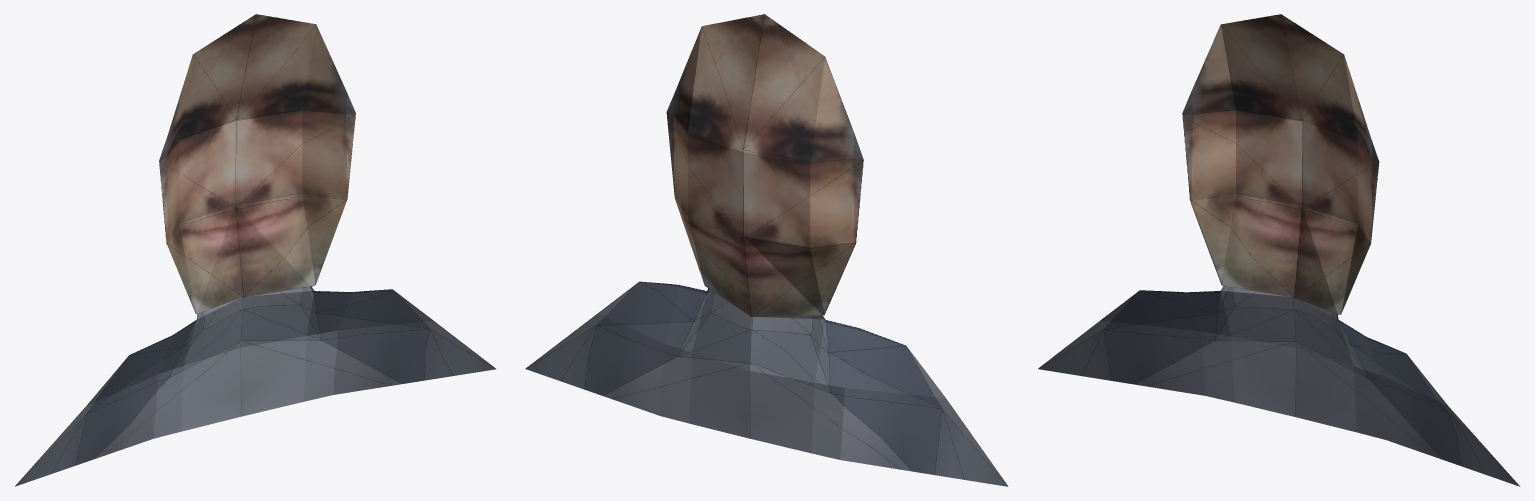
The picture shows the model from 3 angles, left to right: view 1: azimuth 30°, elevation 25°; view 2: azimuth 150°, elevation 25°; view 3: azimuth 330°, elevation 25°; orthographic projection.
Parts seen in each view (by area): view 1: Plane; view 2: Plane; view 3: Plane.
Part boxes in pixels (x1,y1,x2,y2): Plane: [15, 14, 495, 486]; Plane: [525, 14, 1008, 486]; Plane: [1038, 14, 1519, 486].
Size of the model in its own units: 2.45 by 0.2454 by 2.
1 material, 1 textured.
